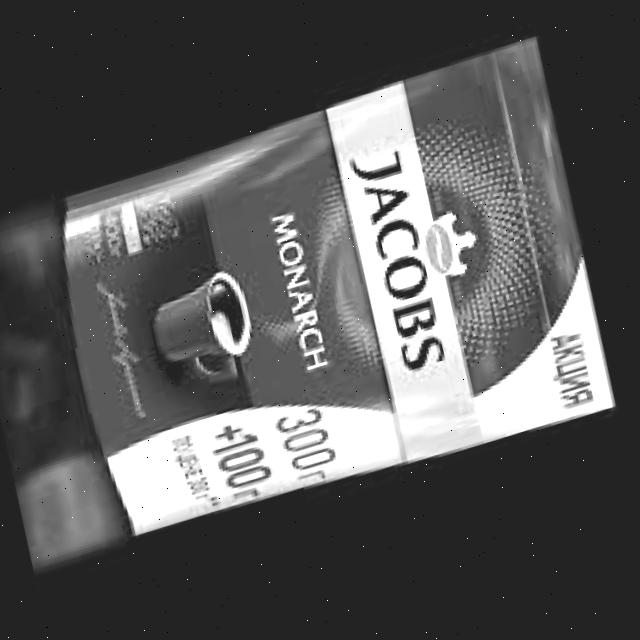jacobs: (313, 69, 531, 472)
